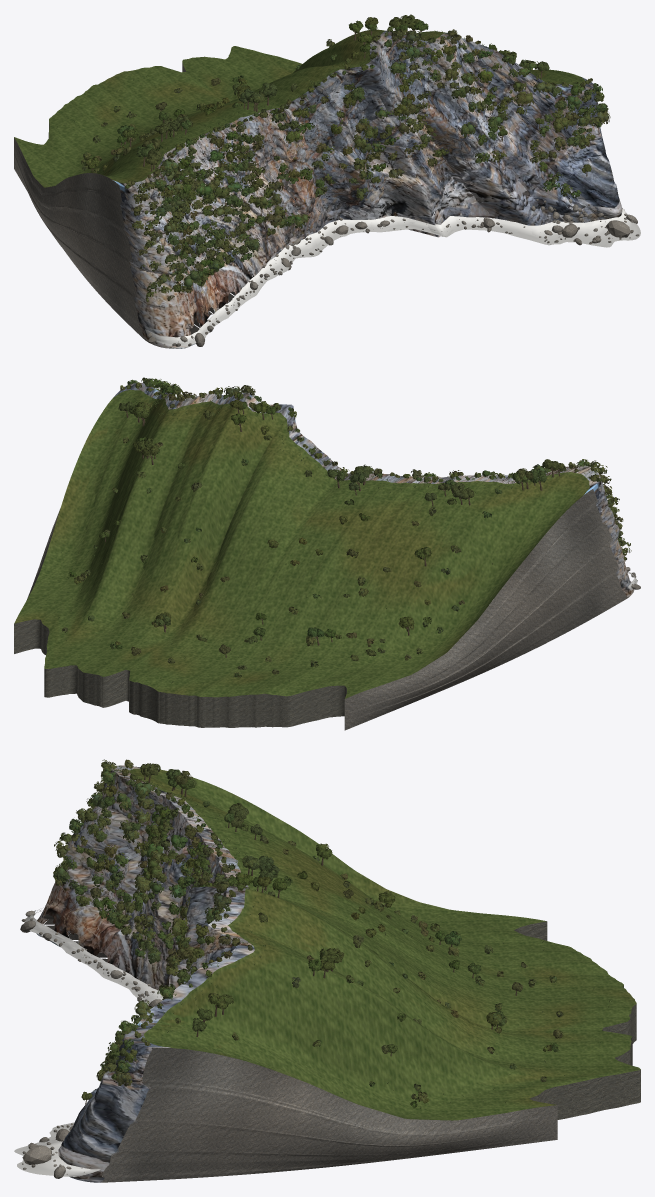
The model's file is ocean-bluff.glb.
3 views of the same model, one above another, from view 1: azimuth 30°, elevation 25°; view 2: azimuth 150°, elevation 25°; view 3: azimuth 270°, elevation 25° (orthographic). The views are drawn at different scales.
Parts seen in each view (by area): view 1: Cliff_Face (×3), Coastal_Scrub (×3), Plateau_And_Back (×3), Angular_Rock_Fins (×3), Headland_Sides (×3), White_Sand_Beach (×3), Vegetation_Interiors (×3), Tree_Canopies (×2), Shore_Boulders (×2), Crest_Shoulder (×3); view 2: Plateau_And_Back (×3), Headland_Sides (×3), Inland_Boundary (×3), Coastal_Scrub (×3), Tree_Canopies (×2), Crest_Shoulder (×3), Cliff_Face, Tree_Trunks; view 3: Plateau_And_Back (×3), Headland_Sides (×3), Coastal_Scrub (×3), Cliff_Face (×3), Tree_Canopies (×2), Inland_Boundary (×3), Crest_Shoulder (×3), Vegetation_Interiors (×2), White_Sand_Beach (×3), Angular_Rock_Fins (×3), Shore_Boulders.
Boxes of the visible parts, box(x1,y1,x2,y2) form: Cliff_Face (×3): box(119, 35, 618, 348); Coastal_Scrub (×3): box(81, 26, 610, 302); Plateau_And_Back (×3): box(14, 29, 585, 187); Angular_Rock_Fins (×3): box(194, 60, 622, 248); Headland_Sides (×3): box(14, 138, 144, 339); White_Sand_Beach (×3): box(145, 207, 640, 345); Vegetation_Interiors (×3): box(84, 17, 608, 294); Tree_Canopies (×2): box(85, 14, 591, 229); Shore_Boulders (×2): box(147, 199, 639, 346); Crest_Shoulder (×3): box(113, 31, 593, 188); Plateau_And_Back (×3): box(14, 390, 590, 698); Headland_Sides (×3): box(26, 489, 627, 730); Inland_Boundary (×3): box(14, 619, 346, 727); Coastal_Scrub (×3): box(62, 377, 631, 677); Tree_Canopies (×2): box(99, 399, 564, 654); Crest_Shoulder (×3): box(113, 383, 600, 494); Cliff_Face: box(587, 481, 634, 597); Tree_Trunks: box(104, 387, 560, 657); Plateau_And_Back (×3): box(130, 768, 640, 1120); Headland_Sides (×3): box(101, 1048, 557, 1182); Coastal_Scrub (×3): box(53, 759, 563, 1108); Cliff_Face (×3): box(36, 770, 236, 1182); Tree_Canopies (×2): box(81, 763, 523, 1100); Inland_Boundary (×3): box(514, 921, 640, 1119); Crest_Shoulder (×3): box(111, 765, 254, 1047); Vegetation_Interiors (×2): box(53, 763, 561, 1103); White_Sand_Beach (×3): box(14, 910, 163, 1176); Angular_Rock_Fins (×3): box(58, 877, 215, 1174); Shore_Boulders: box(20, 910, 161, 1178).
Size of the model in its own units: 223 by 81.53 by 217.
7 materials, 4 textured.
